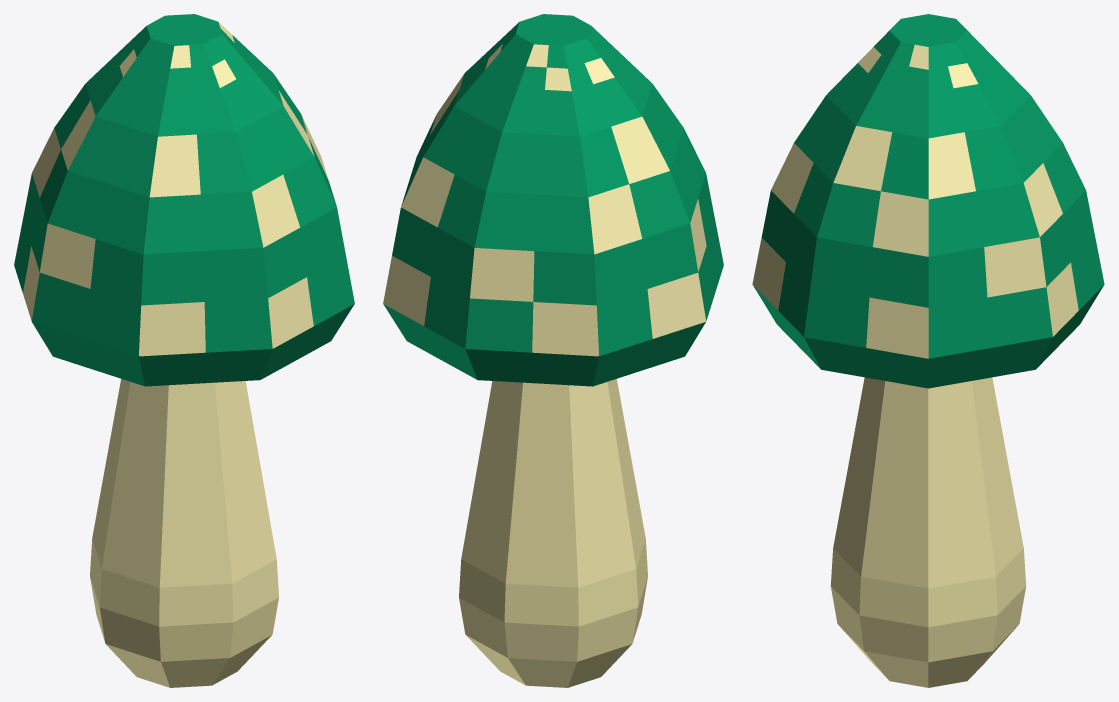
The model's file is Hongo Verde.fbx.
3 renders of one model, left to right at view 1: azimuth 30°, elevation 25°; view 2: azimuth 150°, elevation 25°; view 3: azimuth 270°, elevation 25°, orthographic.
Parts seen in each view (by area): view 1: Cylinder.024; view 2: Cylinder.024; view 3: Cylinder.024.
Boxes of the visible parts, x1,y1,x2,y2 form: Cylinder.024: (14,14,354,687); Cylinder.024: (383,14,723,687); Cylinder.024: (752,14,1104,687).
Bounding box in the file's own units: 103 × 206 × 103.
